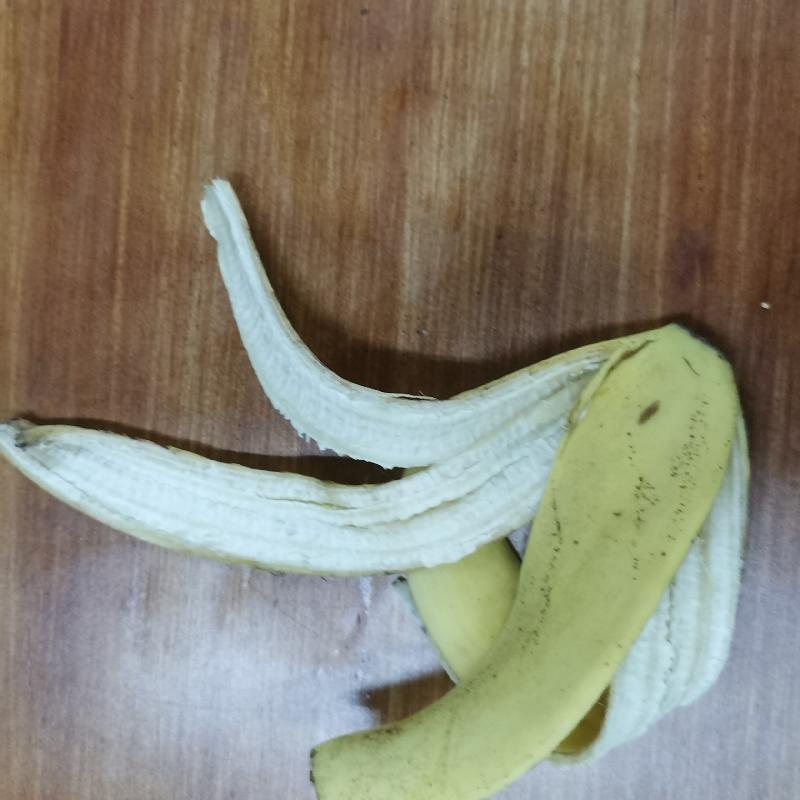bananas: (2, 177, 755, 799)
